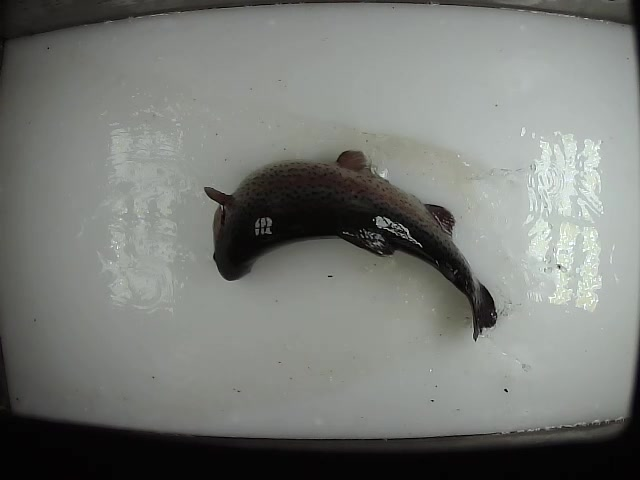fish: (202, 148, 498, 346)
